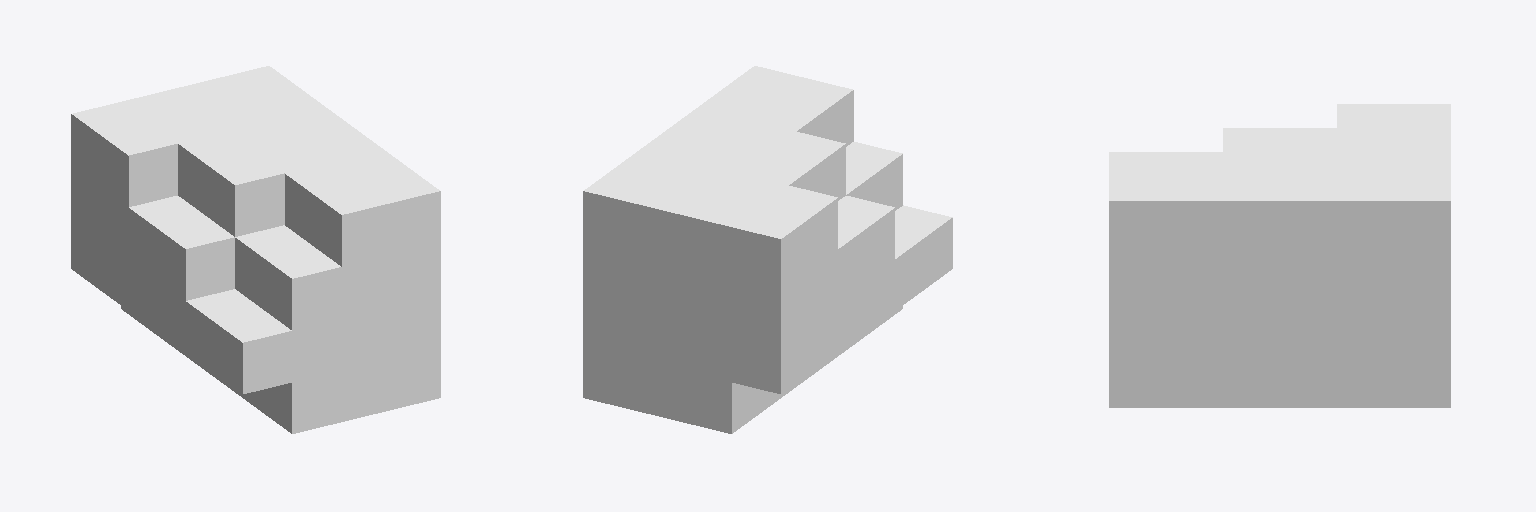
File: playerCar1BotRight.obj
3 views of the same model, side by side, from view 1: azimuth 30°, elevation 25°; view 2: azimuth 150°, elevation 25°; view 3: azimuth 270°, elevation 25° (orthographic).
Parts seen in each view (by area): view 1: object 1; view 2: object 1; view 3: object 1.
Boxes of the visible parts, box(x1,y1,x2,y2) form: object 1: box(71, 66, 440, 433); object 1: box(583, 66, 952, 433); object 1: box(1109, 104, 1450, 407).
Size of the model in its own units: 0.4 by 0.4 by 0.6.